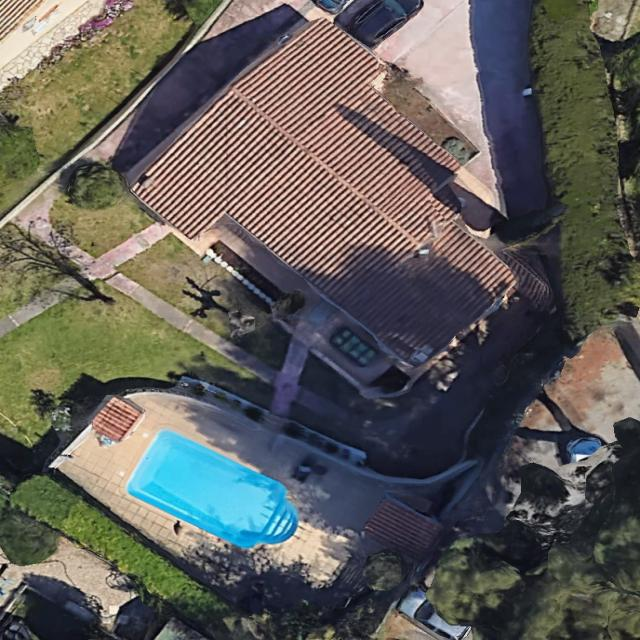maison: (117, 0, 548, 440)
